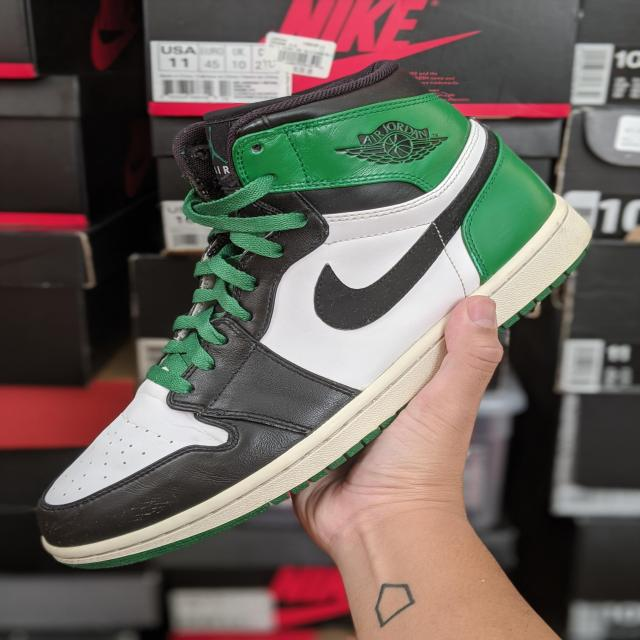shoe: (36, 58, 598, 581)
